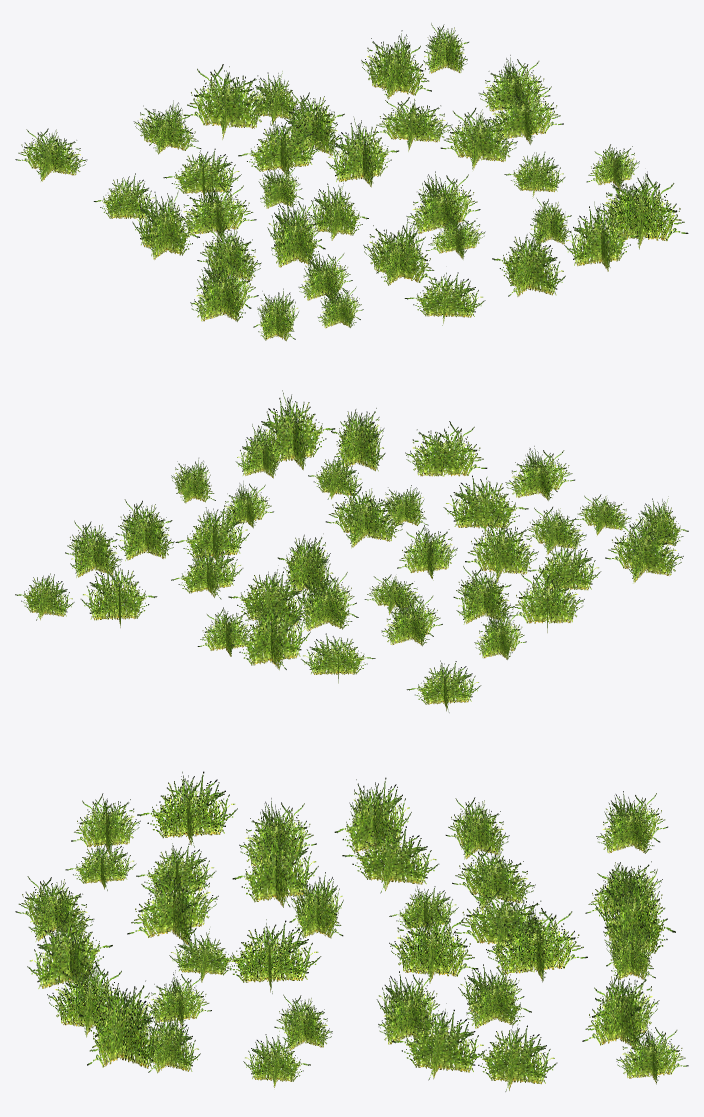
Rendered from field-grass.glb.
3 views of the same model, one above another, from view 1: azimuth 30°, elevation 25°; view 2: azimuth 150°, elevation 25°; view 3: azimuth 270°, elevation 25° (orthographic). The views are drawn at different scales.
Size of the model in its own units: 11.07 by 1.46 by 11.03.
Materials: 1 (1 with a texture image).
